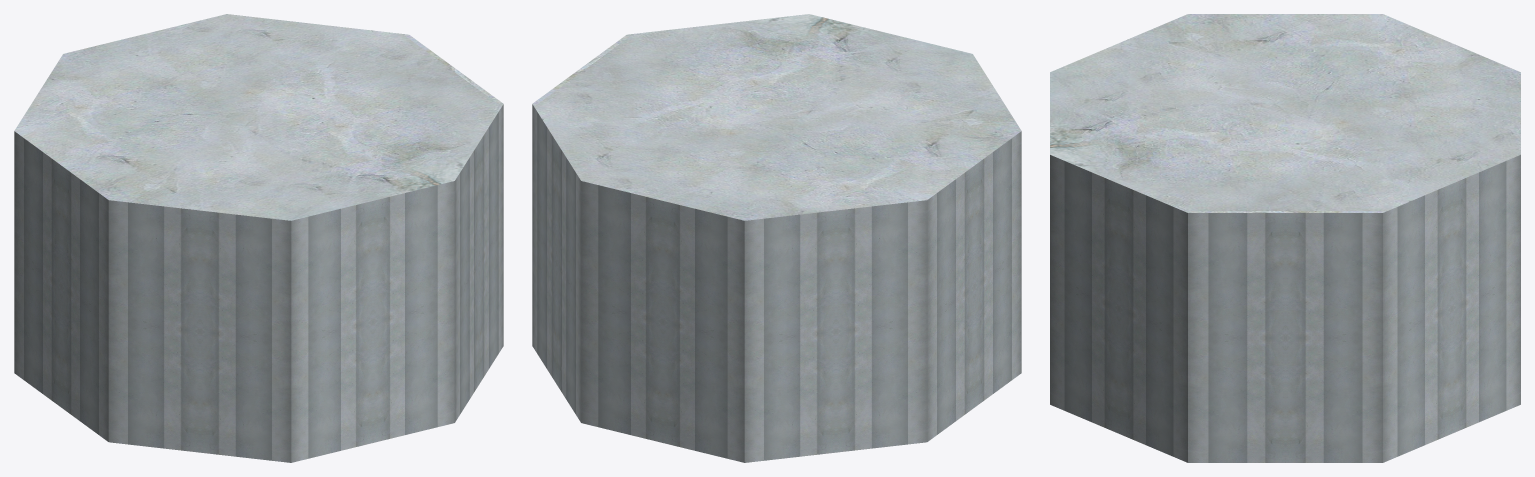
The model's file is GaintColumn3.fbx.
The picture shows the model from 3 angles, left to right: view 1: azimuth 30°, elevation 25°; view 2: azimuth 150°, elevation 25°; view 3: azimuth 270°, elevation 25°; orthographic projection. The views are drawn at different scales.
Parts seen in each view (by area): view 1: GiantColumn3; view 2: GiantColumn3; view 3: GiantColumn3.
Boxes of the visible parts, box(x1,y1,x2,y2) form: GiantColumn3: box(14, 14, 503, 462); GiantColumn3: box(532, 14, 1021, 462); GiantColumn3: box(1050, 14, 1520, 462).
Bounding box in the file's own units: 6.83 × 4 × 6.83.
